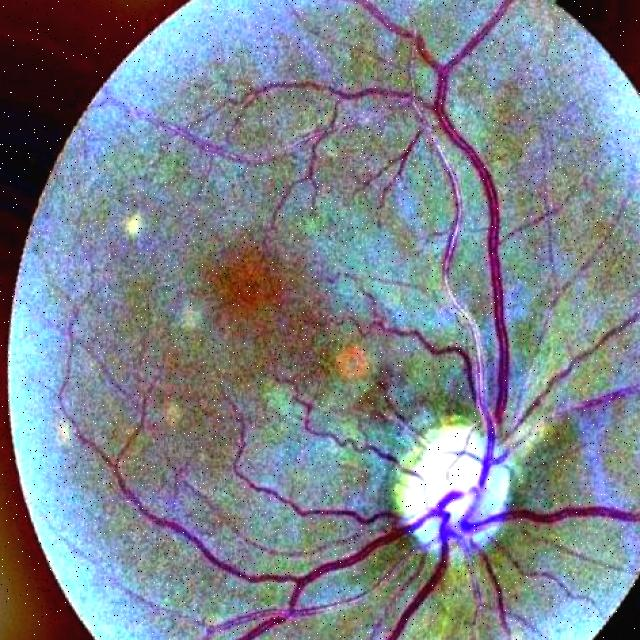Macula: (211, 245, 292, 324)
Nerves: (111, 469, 445, 640), (428, 69, 515, 508), (427, 131, 502, 476), (373, 502, 516, 640), (460, 496, 640, 533)
Optic Disk: (394, 420, 512, 554)
